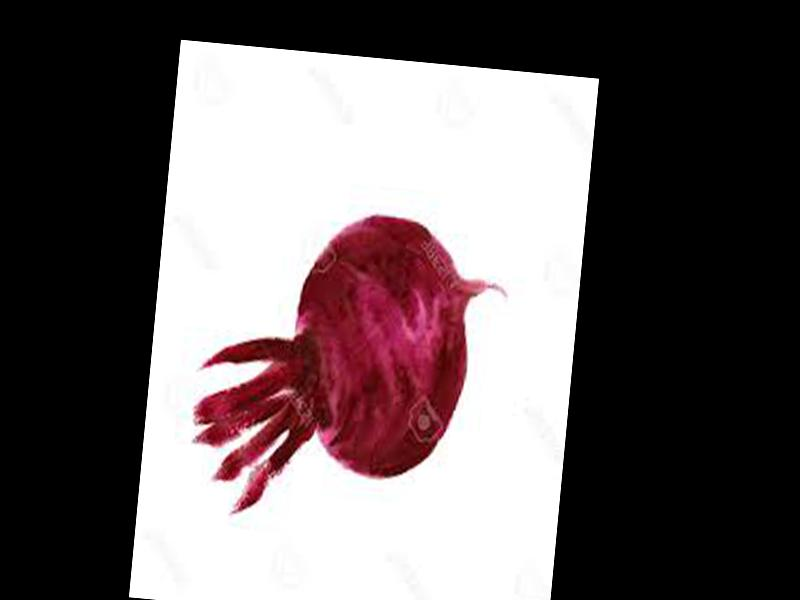Beet: (185, 197, 515, 536)
